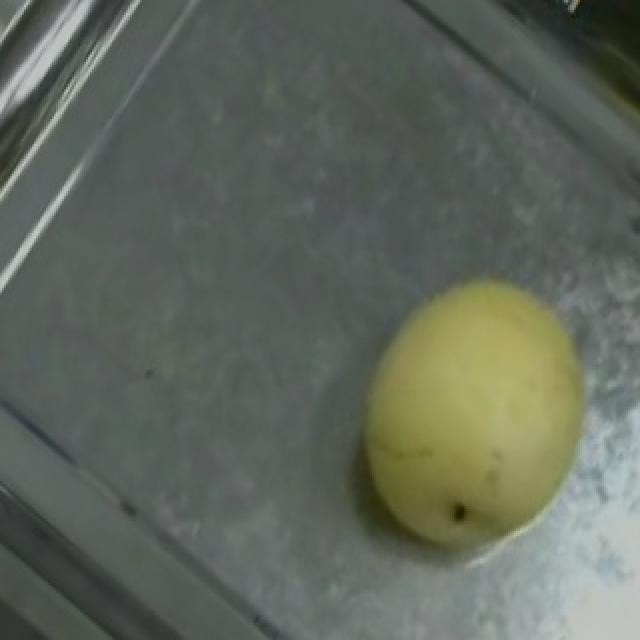Fruit: (314, 233, 624, 593)
